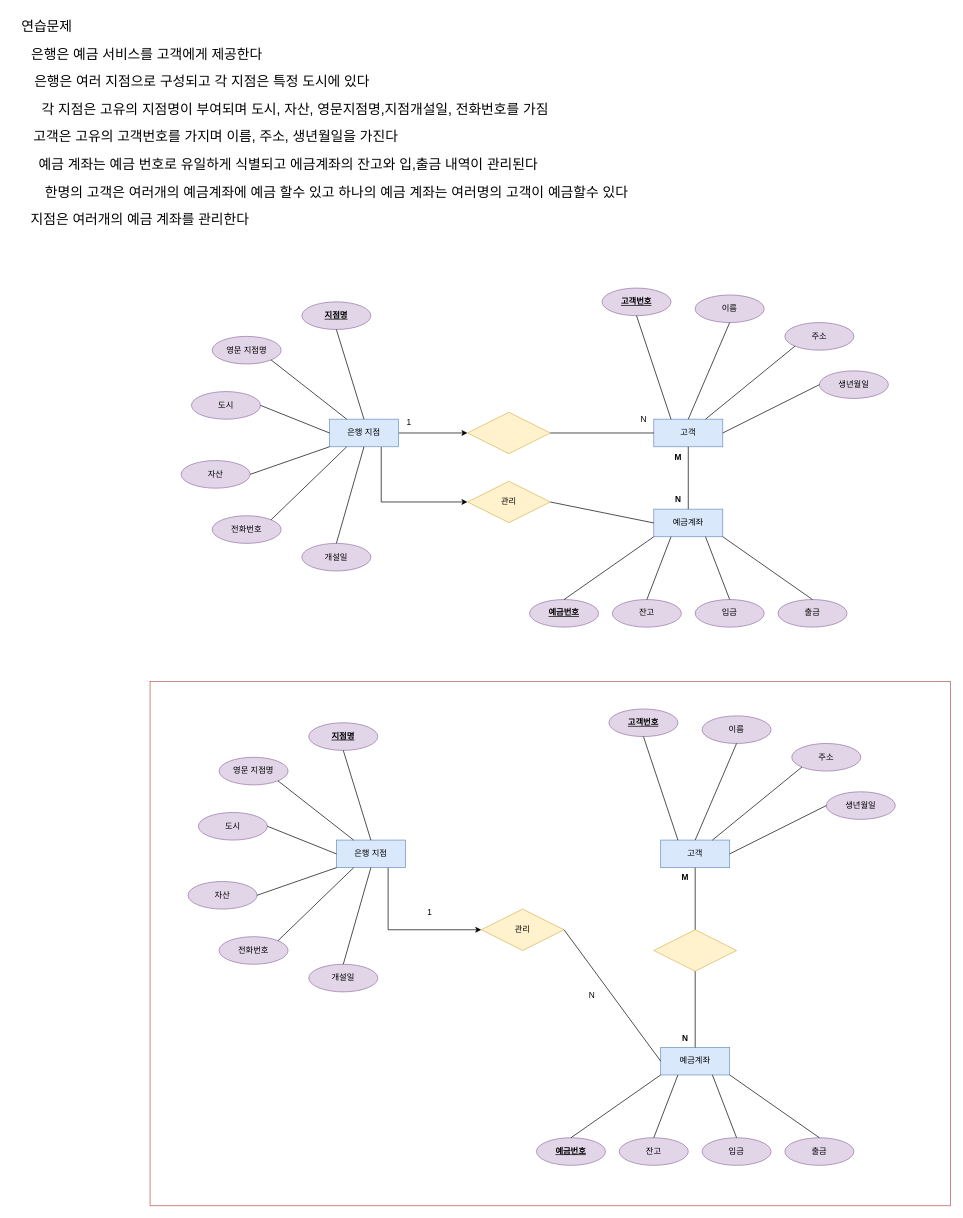
Image size: 963x1218. Some labels were removed from this diagram. The centre of each missing label's shape, as x and y in pixels:
예금: [695,950]
예금서비스: [508,433]
